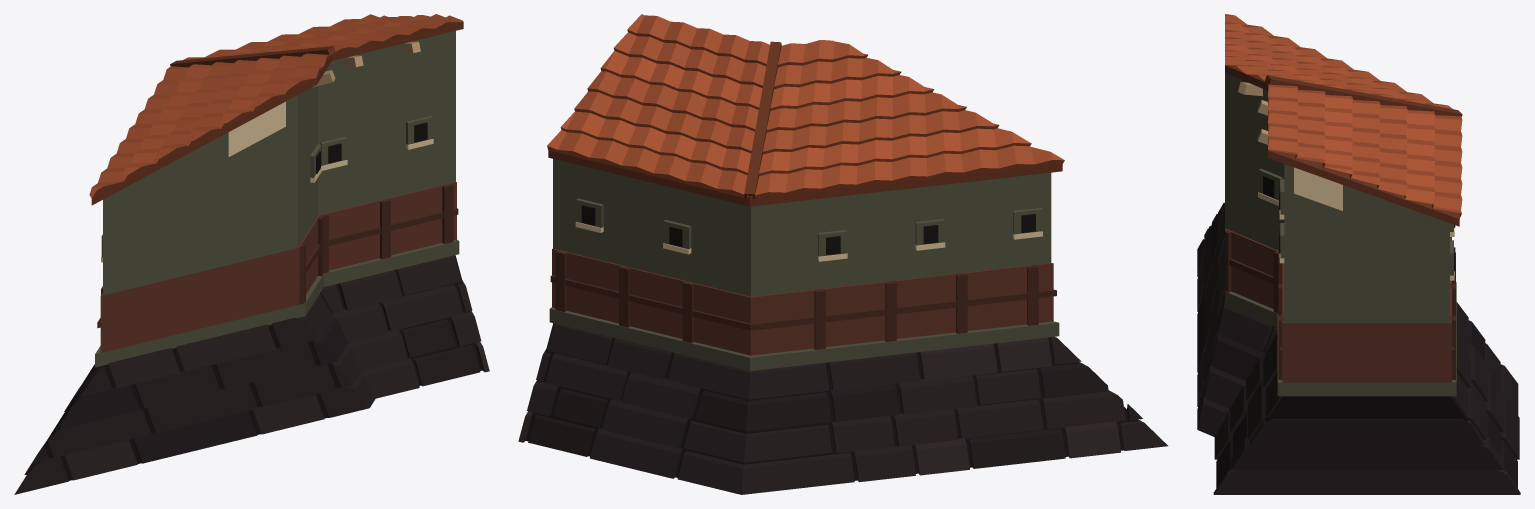
File: VerJoint09.glb
3 renders of one model, left to right at view 1: azimuth 30°, elevation 25°; view 2: azimuth 150°, elevation 25°; view 3: azimuth 270°, elevation 25°, orthographic. The views are drawn at different scales.
Visible parts, largest first — view 1: VerJoint09_mortar; view 2: VerJoint09_mortar; view 3: VerJoint09_mortar.
Boxes of the visible parts, x1,y1,x2,y2 form: VerJoint09_mortar: (14,14,489,494); VerJoint09_mortar: (518,14,1167,494); VerJoint09_mortar: (1197,14,1520,494).
Bounding box in the file's own units: 8.44 × 5.61 × 4.69.
